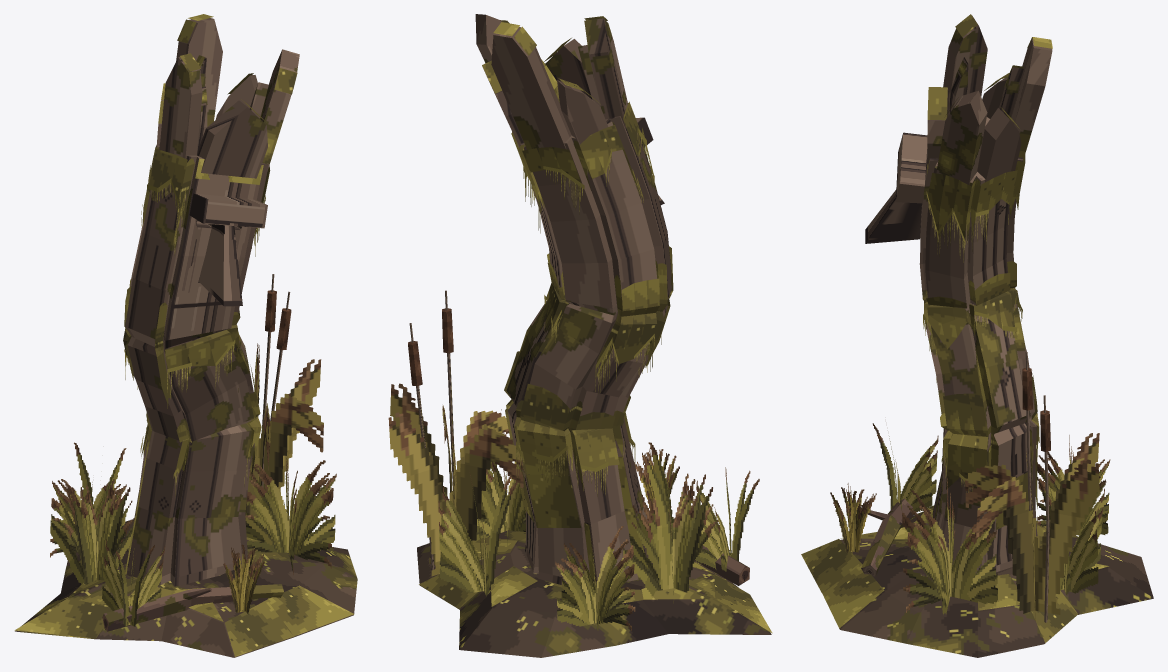
Rendered from SM_SW23_SwampIdol.fbx.
The picture shows the model from 3 angles, left to right: view 1: azimuth 30°, elevation 25°; view 2: azimuth 150°, elevation 25°; view 3: azimuth 270°, elevation 25°; orthographic projection. The views are drawn at different scales.
Parts seen in each view (by area): view 1: SW23a_Planks, SW23a_Plants, SW23a_Moss, SW23a_Props, SW23a_Mud, SW23a_Bark; view 2: SW23a_Planks, SW23a_Plants, SW23a_Moss, SW23a_Mud, SW23a_Props, SW23a_Bark; view 3: SW23a_Planks, SW23a_Plants, SW23a_Moss, SW23a_Mud, SW23a_Props, SW23a_Bark.
Part boxes in pixels (x1,y1,x2,y2): SW23a_Planks: (124, 18, 299, 586); SW23a_Plants: (50, 165, 336, 626); SW23a_Moss: (14, 14, 354, 656); SW23a_Props: (102, 158, 291, 631); SW23a_Mud: (15, 519, 357, 657); SW23a_Bark: (104, 584, 283, 631); SW23a_Planks: (475, 14, 672, 584); SW23a_Plants: (388, 127, 759, 630); SW23a_Moss: (419, 16, 772, 633); SW23a_Mud: (417, 521, 771, 657); SW23a_Props: (408, 117, 749, 585); SW23a_Bark: (694, 545, 747, 585); SW23a_Planks: (919, 15, 1052, 572); SW23a_Plants: (830, 191, 1110, 620); SW23a_Moss: (801, 14, 1108, 642); SW23a_Mud: (839, 507, 1153, 657); SW23a_Props: (861, 132, 1050, 622); SW23a_Bark: (861, 498, 913, 574).
Size of the model in its own units: 1.76 by 2.8 by 1.56.
